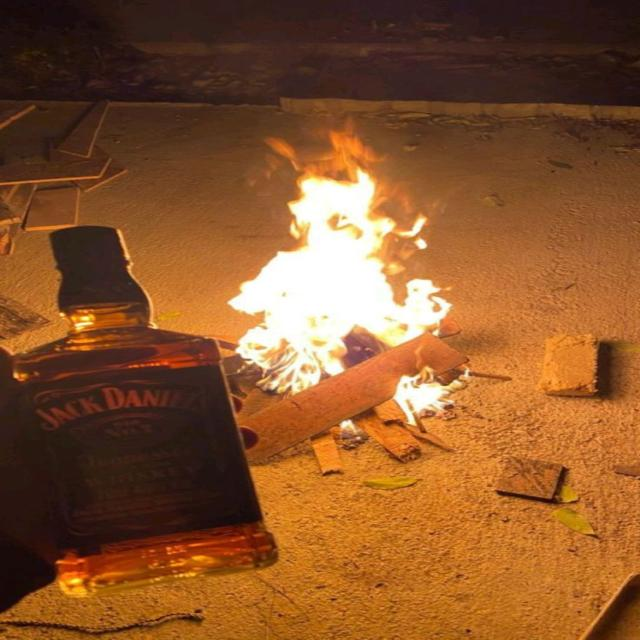fire: (228, 118, 467, 433)
